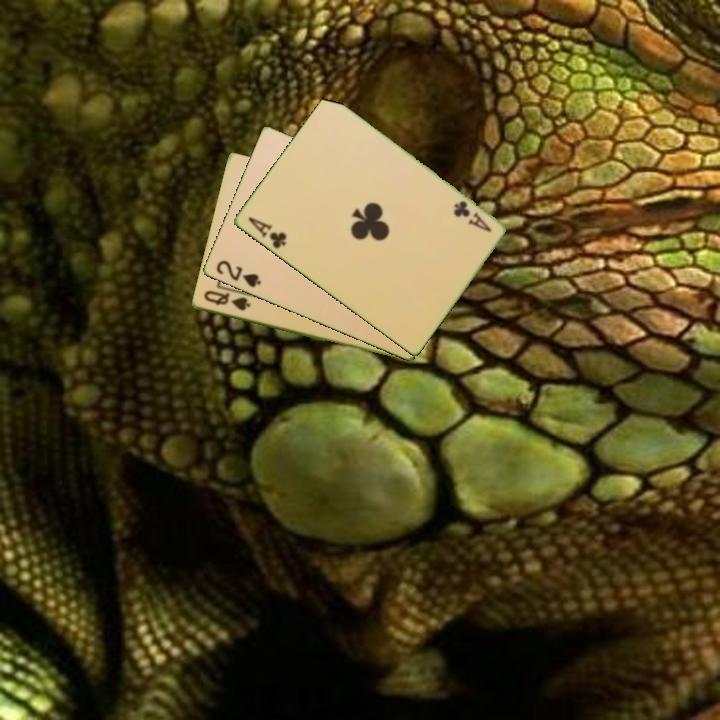2s: (212, 257, 264, 291)
Ac: (244, 213, 289, 252), (449, 197, 494, 235)
Qs: (200, 287, 253, 314)
